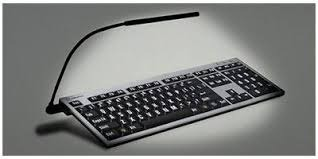keyboard: (56, 49, 293, 146)
